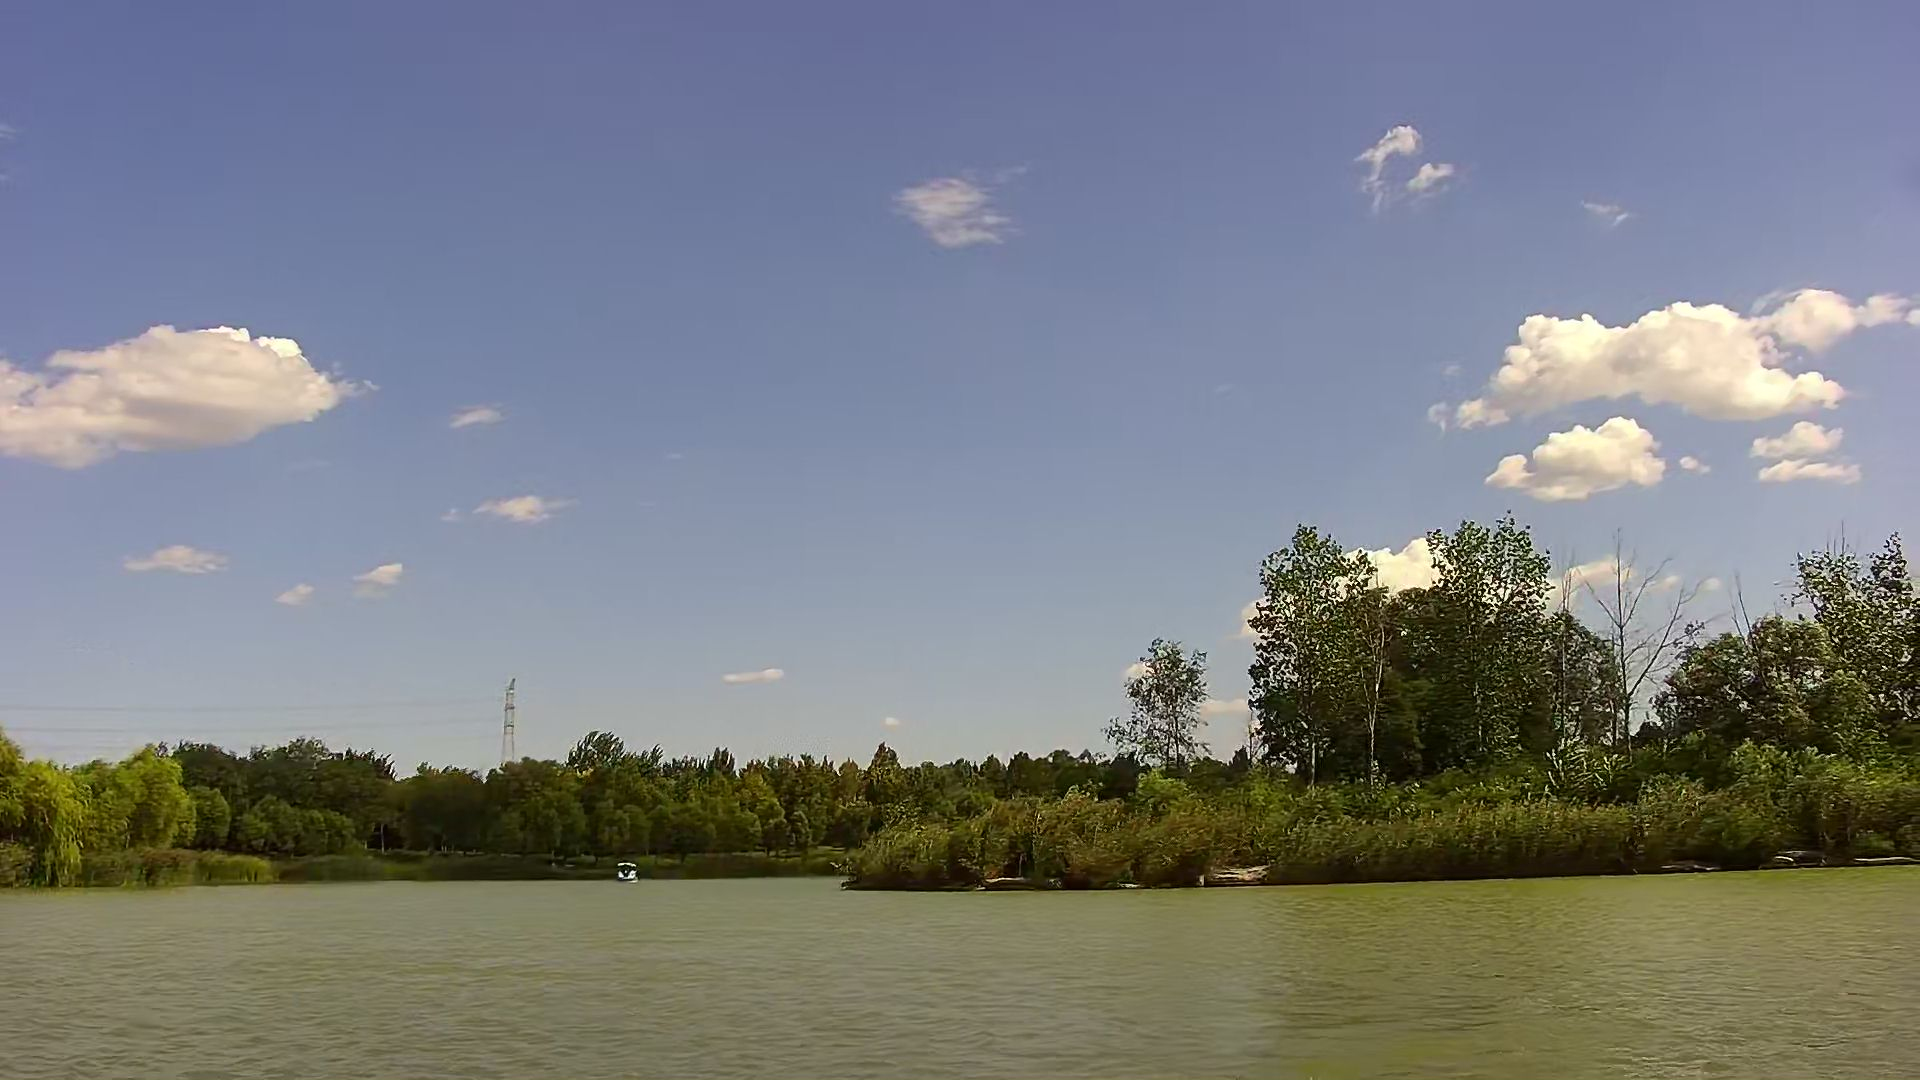rock: (1201, 861, 1267, 884), (978, 876, 1046, 891)
